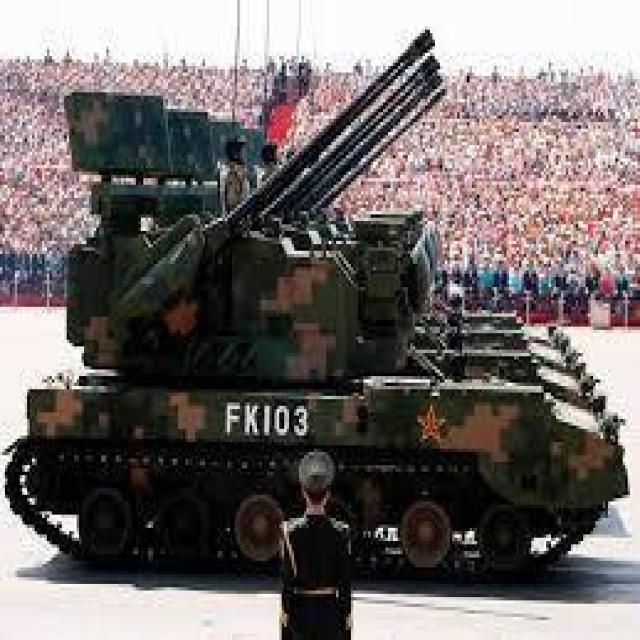Tanks: (11, 39, 609, 600)
